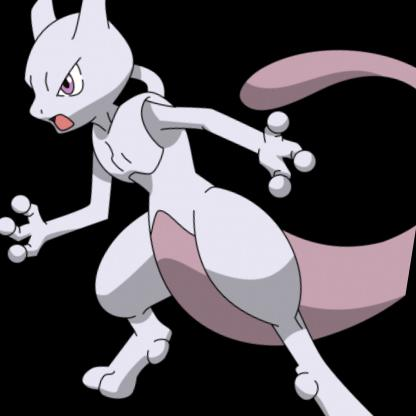Mewtwo: (1, 1, 416, 416)
